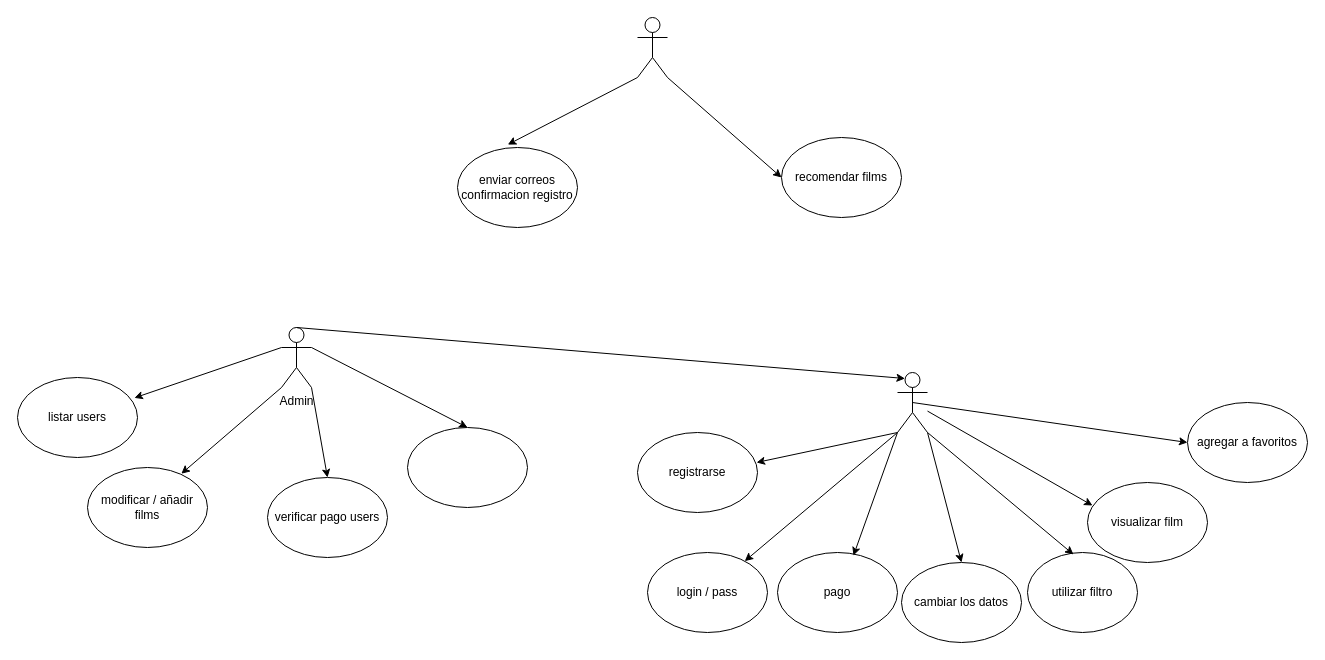
Image size: 1325x660. Some labels were removed from this diagram. The shapes that lost their labels are listed below. From the top down, each one's box as (x1, y1, x2, y2) in pixels, then its label:
(636, 16, 668, 78): Sistema
(896, 372, 928, 432): Usuario
(406, 426, 528, 508): bloquear cuentas
